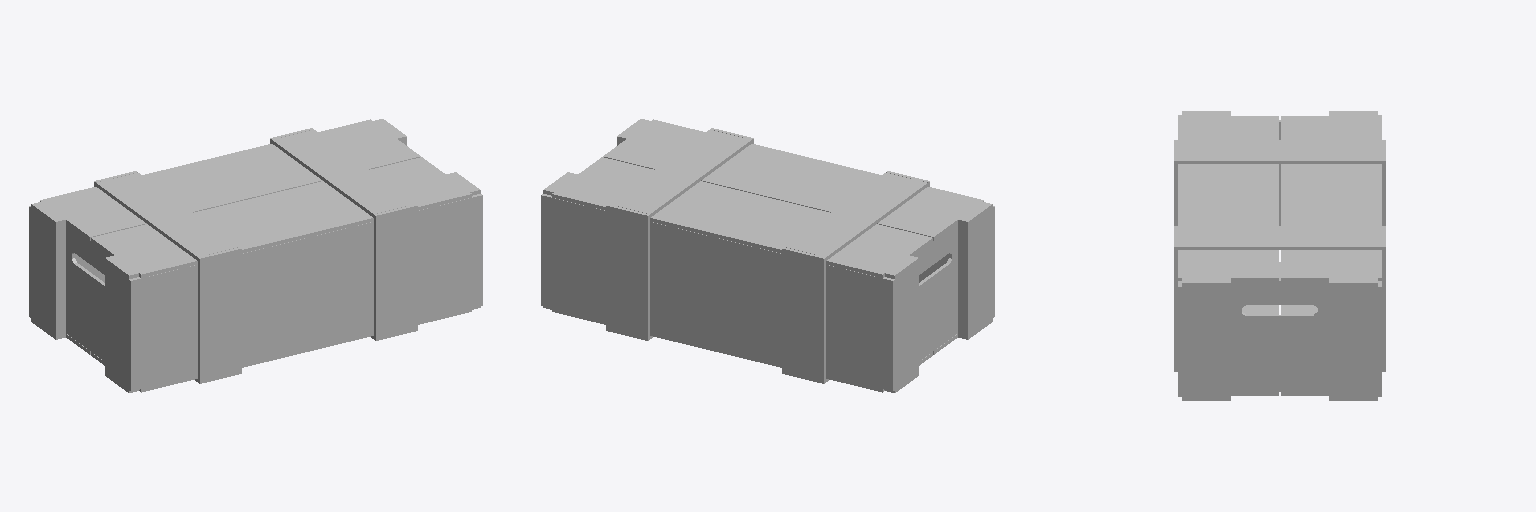
Rendered from Crate-02.obj.
The picture shows the model from 3 angles: view 1: azimuth 30°, elevation 25°; view 2: azimuth 150°, elevation 25°; view 3: azimuth 270°, elevation 25°; orthographic projection.
Visible parts, largest first — view 1: Crate_02_case, Crate_02_cover; view 2: Crate_02_case, Crate_02_cover; view 3: Crate_02_cover, Crate_02_case.
Boxes of the visible parts, x1=… form: Crate_02_case: x1=29, y1=119, x2=482, y2=392; Crate_02_cover: x1=40, y1=119, x2=471, y2=277; Crate_02_case: x1=541, y1=119, x2=994, y2=392; Crate_02_cover: x1=552, y1=119, x2=983, y2=277; Crate_02_cover: x1=1178, y1=116, x2=1381, y2=280; Crate_02_case: x1=1174, y1=111, x2=1385, y2=400.
Bounding box in the file's own units: 0.5 × 0.17 × 0.261.